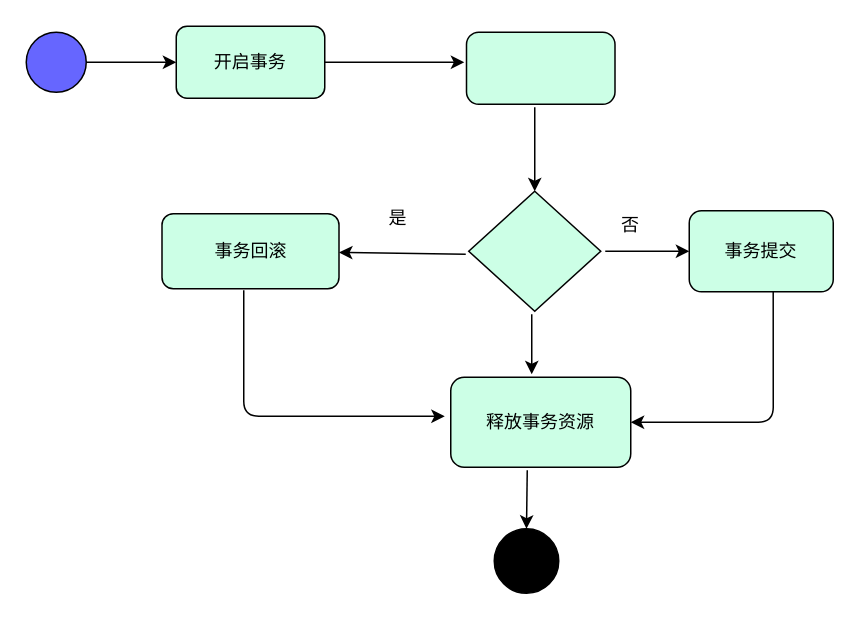
Image size: 860x620. Some labels were removed from this diagram. The shapes that lost their labels are listed below. From the top down, each one's centre as x and y in pixels, then its label:
At [540,67]: "执行SQL".
At [534,250]: "发生异常?".
